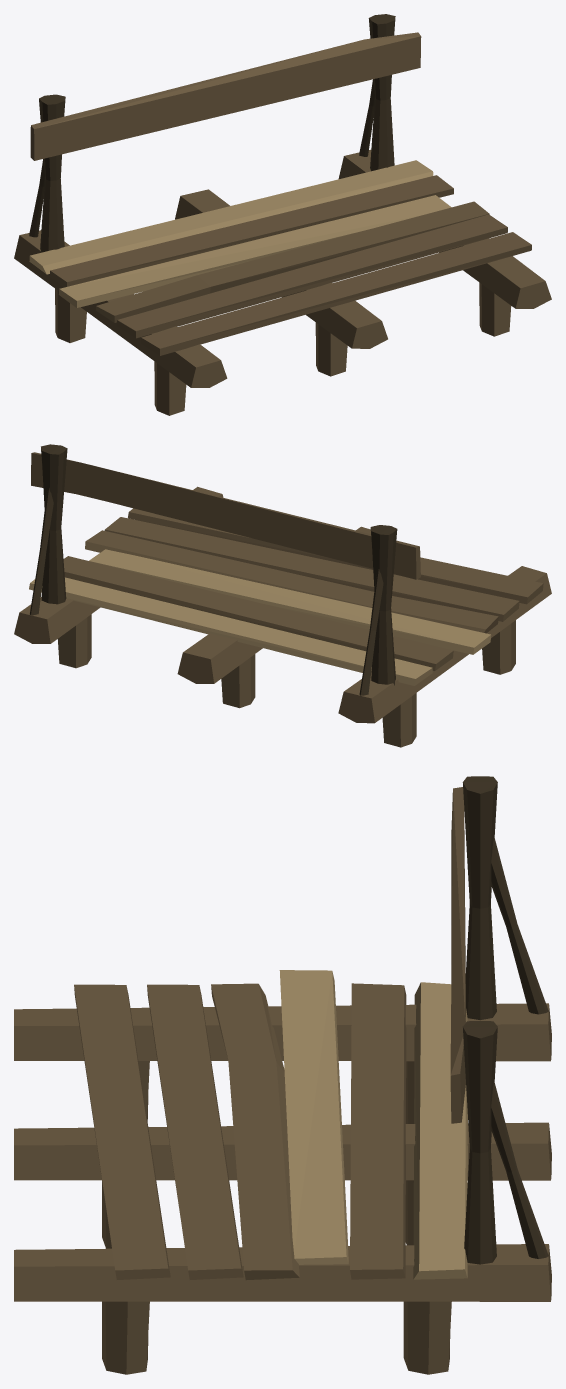
File: EA03_Prop_Pier_04c.glb
3 renders of one model, top to bottom at view 1: azimuth 30°, elevation 25°; view 2: azimuth 150°, elevation 25°; view 3: azimuth 270°, elevation 25°, orthographic. The views are drawn at different scales.
Parts seen in each view (by area): view 1: EA03_Prop_Pier_04c; view 2: EA03_Prop_Pier_04c; view 3: EA03_Prop_Pier_04c.
Part boxes in pixels (bbox=[...]): EA03_Prop_Pier_04c: bbox=[14, 14, 551, 415]; EA03_Prop_Pier_04c: bbox=[14, 444, 551, 747]; EA03_Prop_Pier_04c: bbox=[14, 776, 551, 1374].
Bounding box in the file's own units: 4.63 × 2.46 × 3.53.
1 material, 1 textured.
